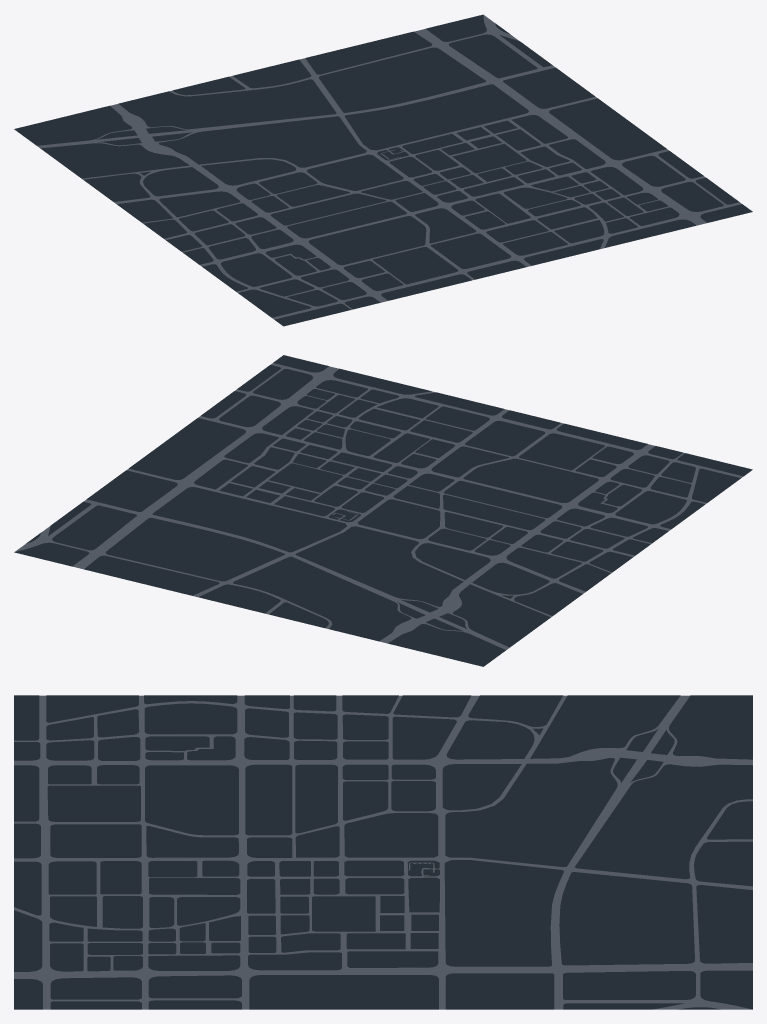
The picture shows the model from 3 angles, top to bottom: view 1: azimuth 30°, elevation 25°; view 2: azimuth 150°, elevation 25°; view 3: azimuth 270°, elevation 25°; orthographic projection. The views are drawn at different scales.
Parts seen in each view (by area): view 1: 1001dimian; view 2: 1001dimian; view 3: 1001dimian.
Part boxes in pixels (<box>): 1001dimian: <box>14,14,752,326</box>; 1001dimian: <box>14,355,752,666</box>; 1001dimian: <box>14,695,752,1009</box>.
Size of the model in its own units: 3461 by 1 by 3440.
Materials: 3 (3 with a texture image).
